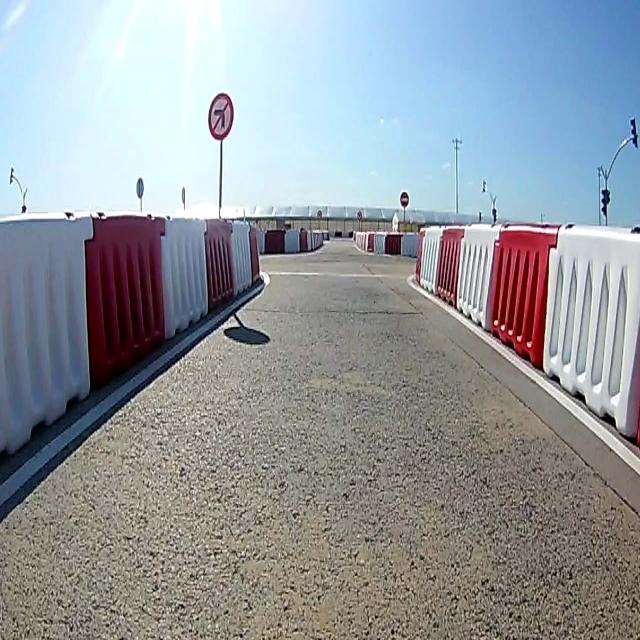girisyok: (400, 187, 408, 209)
soladonulmez: (207, 92, 233, 142)
